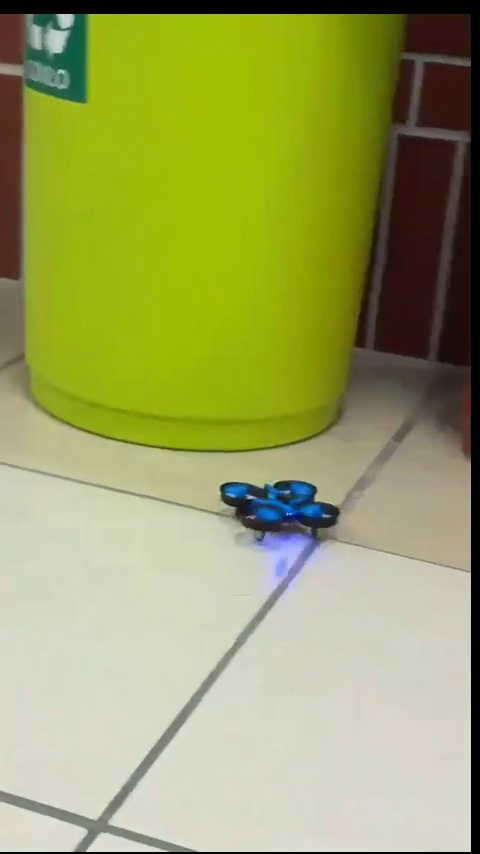drone: (224, 477, 351, 538)
